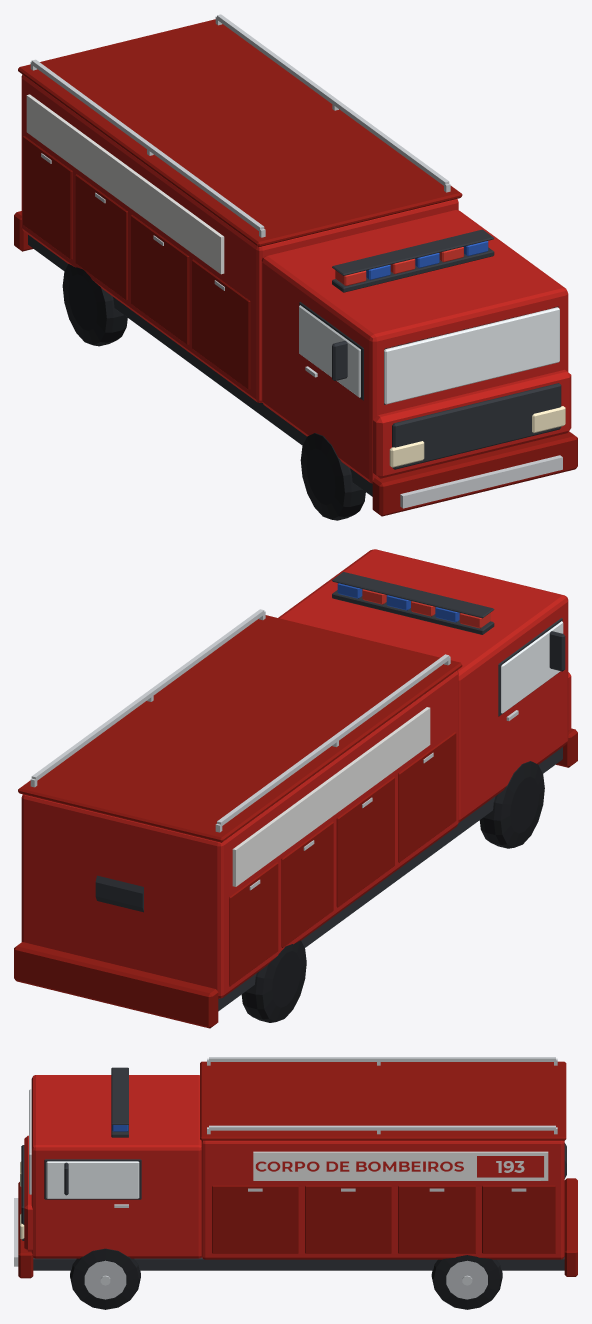
The model's file is Caminhao_Bombeiros.fbx.
The picture shows the model from 3 angles, top to bottom: view 1: azimuth 30°, elevation 25°; view 2: azimuth 150°, elevation 25°; view 3: azimuth 270°, elevation 25°; orthographic projection. The views are drawn at different scales.
Visible parts, largest first — view 1: Carroceria, Cabine, Vidro, Caminhao_Bombeiros, Giroflex, Roda0, Roda2; view 2: Carroceria, Cabine, Caminhao_Bombeiros, Giroflex, Roda0, Roda2, Vidro; view 3: Carroceria, Cabine, Caminhao_Bombeiros, Vidro, Roda1, Roda3, Giroflex.
Part boxes in pixels (<box>): Carroceria: <box>18,14,462,402</box>; Cabine: <box>261,210,571,483</box>; Vidro: <box>299,305,559,404</box>; Caminhao_Bombeiros: <box>14,211,577,516</box>; Giroflex: <box>332,229,494,292</box>; Roda0: <box>300,433,365,520</box>; Roda2: <box>62,264,127,346</box>; Carroceria: <box>18,609,462,998</box>; Cabine: <box>278,549,571,822</box>; Caminhao_Bombeiros: <box>14,728,577,1028</box>; Giroflex: <box>332,572,494,634</box>; Roda0: <box>479,761,544,848</box>; Roda2: <box>241,940,306,1022</box>; Vidro: <box>501,621,563,713</box>; Carroceria: <box>200,1057,566,1259</box>; Cabine: <box>20,1075,201,1258</box>; Caminhao_Bombeiros: <box>14,1178,577,1278</box>; Vidro: <box>29,1089,139,1198</box>; Roda1: <box>70,1248,140,1309</box>; Roda3: <box>431,1255,502,1309</box>; Giroflex: <box>111,1067,128,1137</box>.
Bounding box in the file's own units: 2.76 × 2.73 × 7.64.
2 materials, 2 textured.
